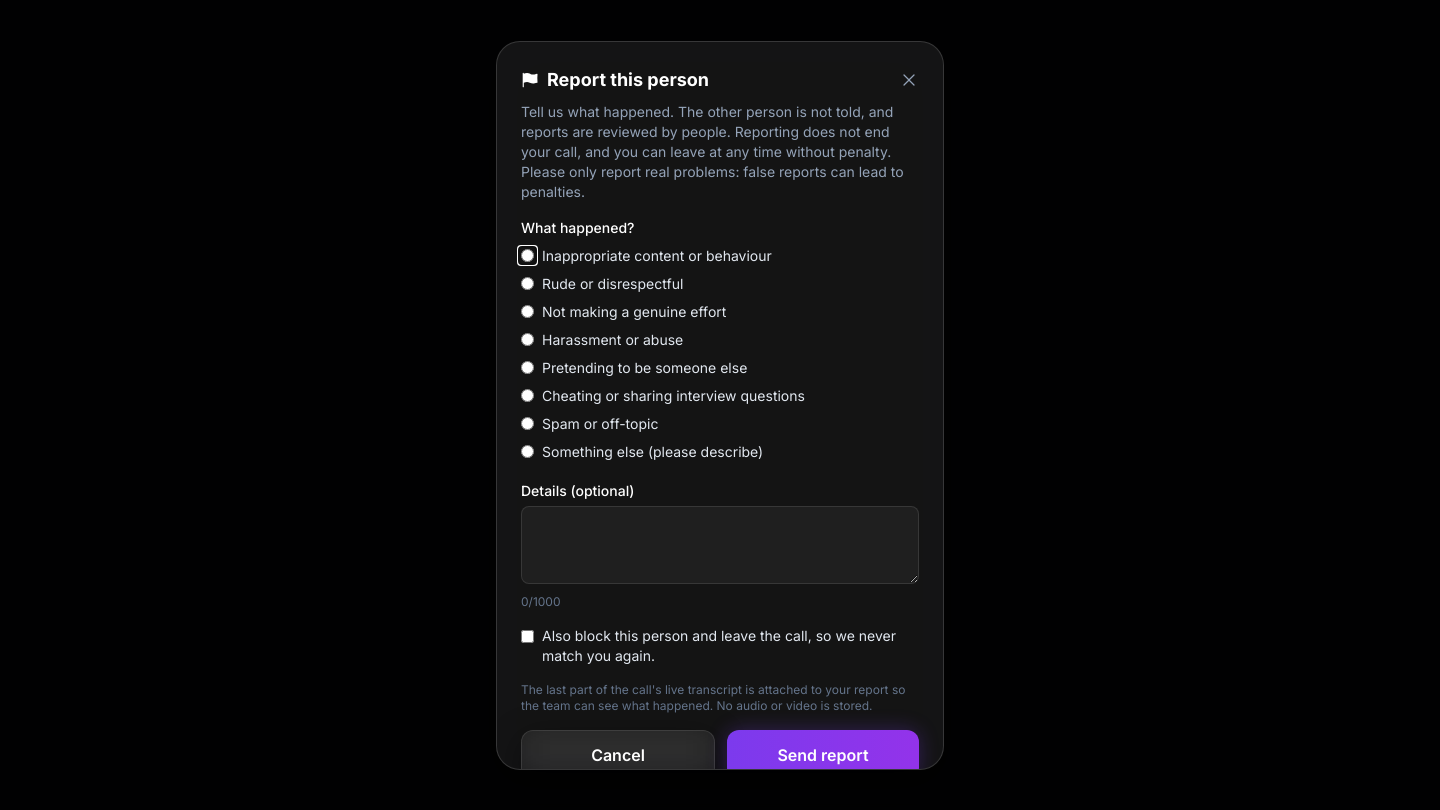
Test: ReportDialog › shows a clear message for an anonymous guest and lets them close
Click the radio button labelled "Spam or off-topic" at [528, 424], box [521,417,534,430]
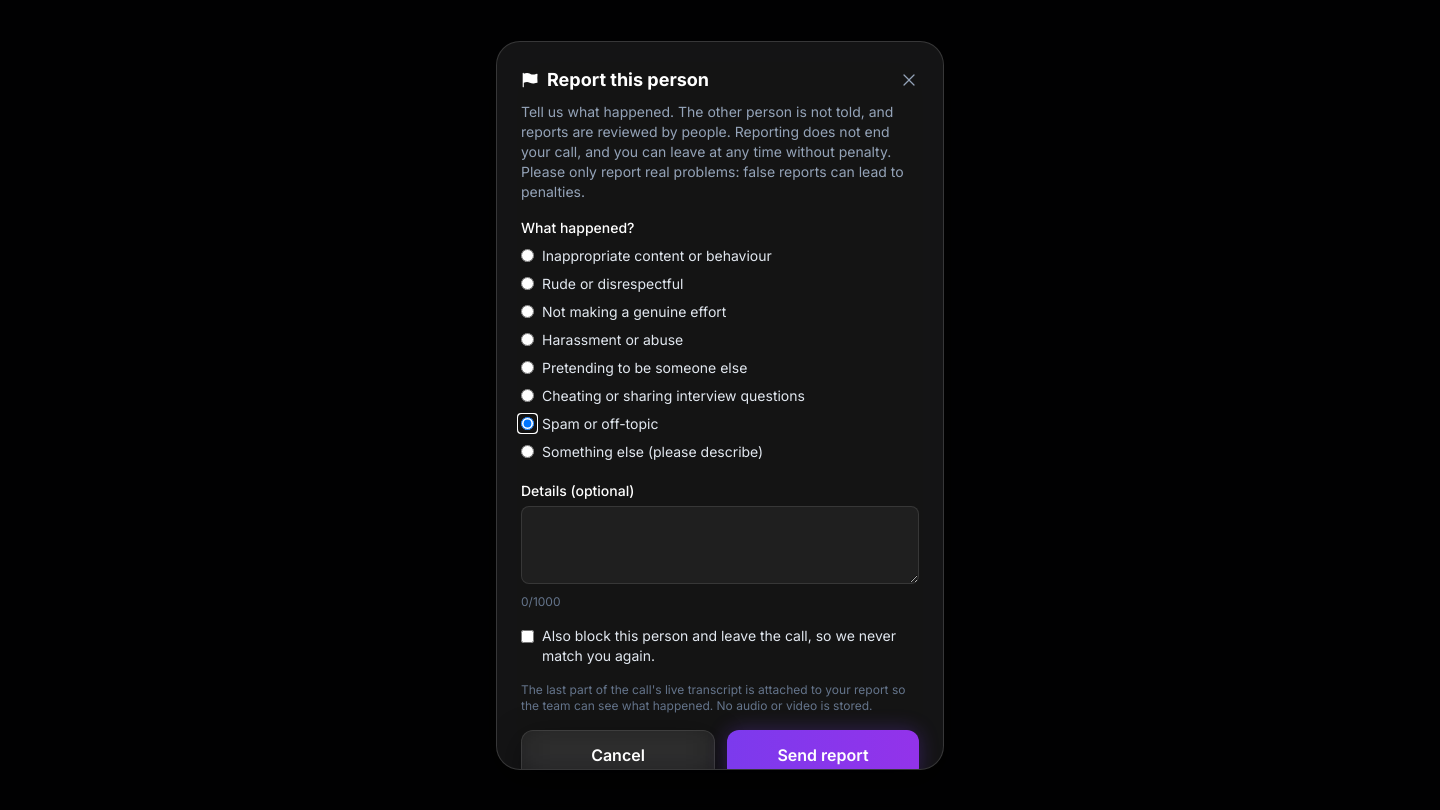
Click the button "Send report" at [823, 754], box [727,730,919,780]
(page scrolled)
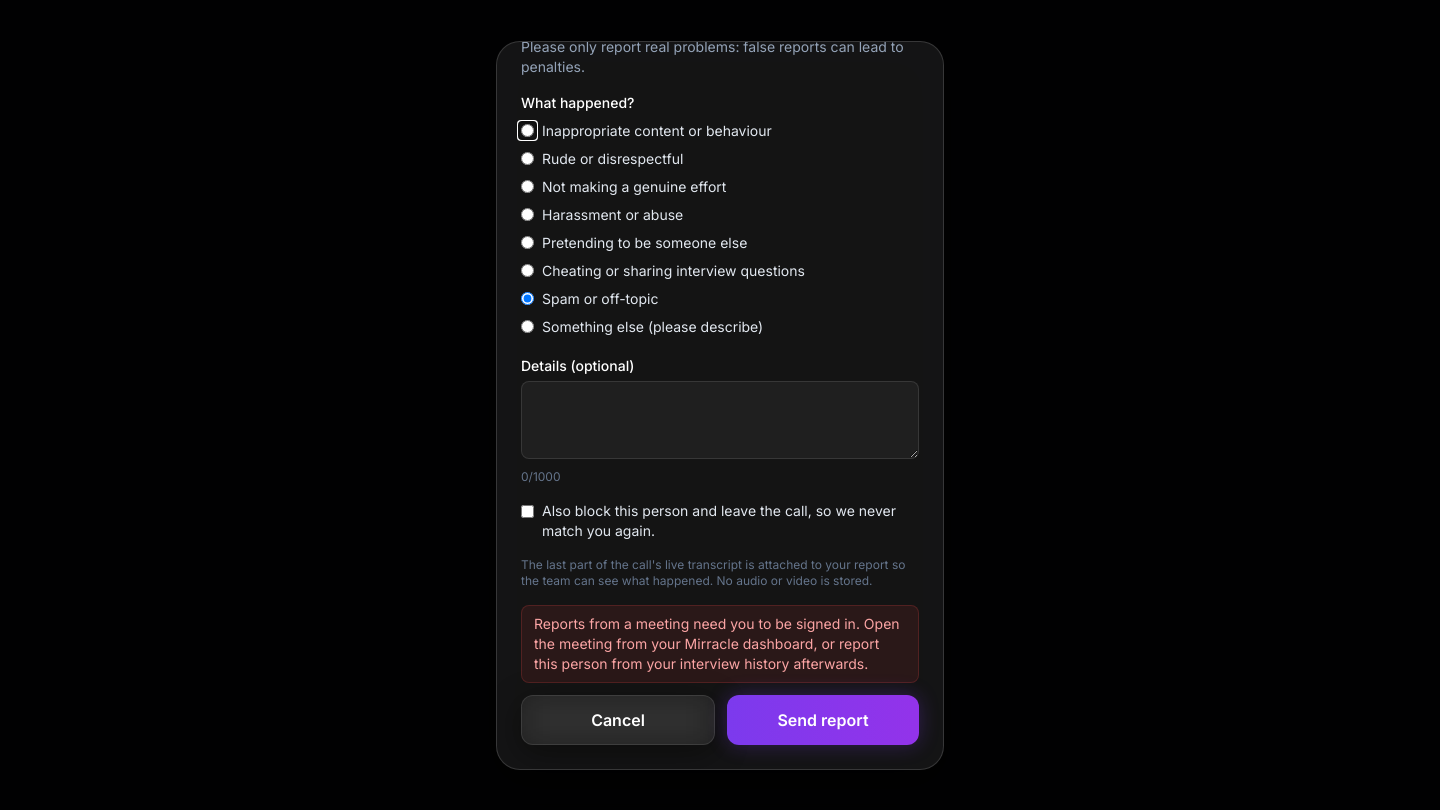
Result: the button "Send report" is enabled at [727,694,919,744]
Result: the message shows "signed in" at [534,614,900,672]
